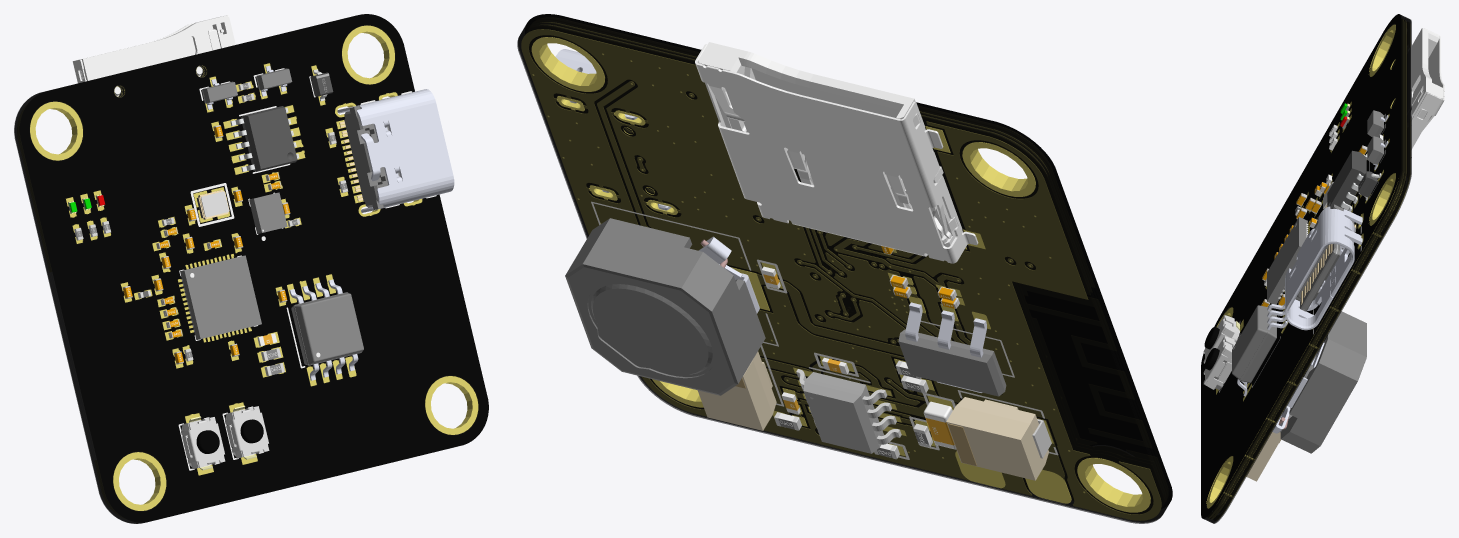
Rendered from icm-42605.glb.
The picture shows the model from 3 angles, left to right: view 1: azimuth 30°, elevation 25°; view 2: azimuth 150°, elevation 25°; view 3: azimuth 270°, elevation 25°; orthographic projection. The views are drawn at different scales.
Parts seen in each view (by area): view 1: Solder_Top, ComponentBody.189, Pad.70, ComponentBody.18, ComponentBody.206, Core, ComponentBody.119, ComponentBody.204, ComponentBody.188, ComponentBody.174, ComponentBody.182, Top (+13 smaller); view 2: Solder_Bottom, GND, ComponentBody.206, ComponentBody.258, Core.4, Pad.70, ComponentBody.209, ComponentBody.275, ComponentBody.244, Core.1, Core.3, Core.2 (+14 smaller); view 3: Solder_Top, ComponentBody.258, ComponentBody.189, GND, ComponentBody.206, Core.1, ComponentBody.119, Core.4, Core.3, Pad.70, Core.2, ComponentBody.18 (+13 smaller).
Part boxes in pixels (left/top/right/bottom): Solder_Top: left=19, top=14, right=488, bottom=522; ComponentBody.189: left=337, top=89, right=454, bottom=212; Pad.70: left=30, top=25, right=478, bottom=510; ComponentBody.18: left=180, top=255, right=261, bottom=339; ComponentBody.206: left=72, top=15, right=235, bottom=96; Core: left=19, top=25, right=478, bottom=522; ComponentBody.119: left=291, top=292, right=363, bottom=365; ComponentBody.204: left=241, top=106, right=297, bottom=171; ComponentBody.188: left=344, top=105, right=400, bottom=209; ComponentBody.174: left=225, top=406, right=269, bottom=458; ComponentBody.182: left=181, top=417, right=225, bottom=469; Top: left=178, top=68, right=436, bottom=470; Solder_Bottom: left=517, top=27, right=1164, bottom=523; GND: left=521, top=22, right=1161, bottom=520; ComponentBody.206: left=695, top=42, right=978, bottom=263; ComponentBody.258: left=565, top=218, right=765, bottom=395; Core.4: left=518, top=25, right=1165, bottom=522; Pad.70: left=531, top=37, right=1150, bottom=512; ComponentBody.209: left=946, top=397, right=1048, bottom=480; ComponentBody.275: left=803, top=372, right=884, bottom=453; ComponentBody.244: left=898, top=329, right=1006, bottom=396; Core.1: left=524, top=16, right=1171, bottom=506; Core.3: left=521, top=22, right=1167, bottom=512; Core.2: left=523, top=19, right=1169, bottom=508; Solder_Top: left=1201, top=14, right=1400, bottom=518; ComponentBody.258: left=1280, top=311, right=1366, bottom=453; ComponentBody.189: left=1285, top=206, right=1362, bottom=330; GND: left=1206, top=20, right=1409, bottom=518; ComponentBody.206: left=1410, top=28, right=1444, bottom=157; Core.1: left=1205, top=15, right=1404, bottom=520; ComponentBody.119: left=1232, top=305, right=1276, bottom=382; Core.4: left=1211, top=19, right=1410, bottom=523; Core.3: left=1209, top=17, right=1409, bottom=522; Pad.70: left=1206, top=24, right=1400, bottom=508; Core.2: left=1207, top=16, right=1407, bottom=521; ComponentBody.18: left=1267, top=217, right=1307, bottom=304.
Size of the model in its own units: 3.75 by 3.55 by 2.11.
